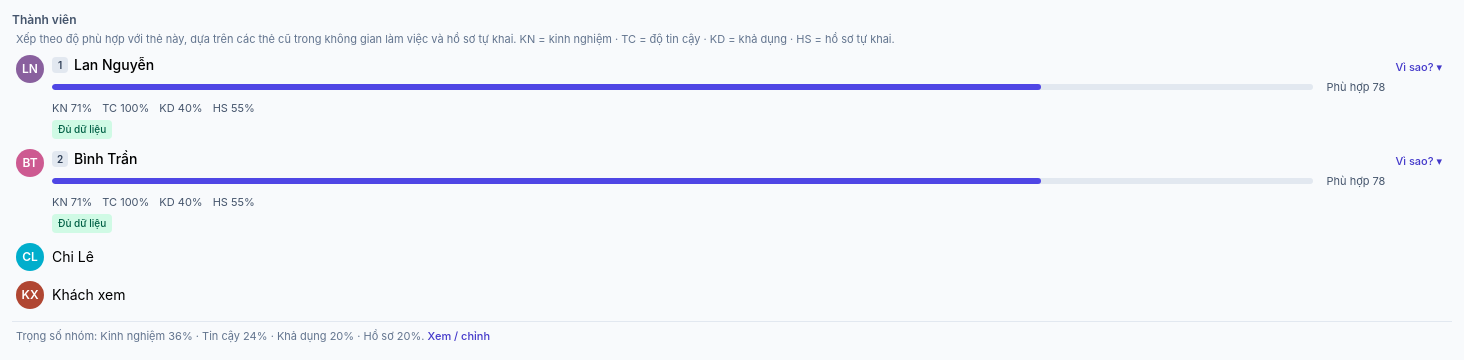
Test: AssignSuggestPanel - giao thẻ và ghi lựa chọn › trong lúc đang giao, các nút bị khoá (không giao hai người cùng lúc)
Expected: the list item with test id "assign-row-u1" is shown, [12, 51, 1452, 143]
Click the button with aria-label "Giao thẻ cho Lan Nguyễn". click: (114, 65)
box: [16, 55, 1385, 139]
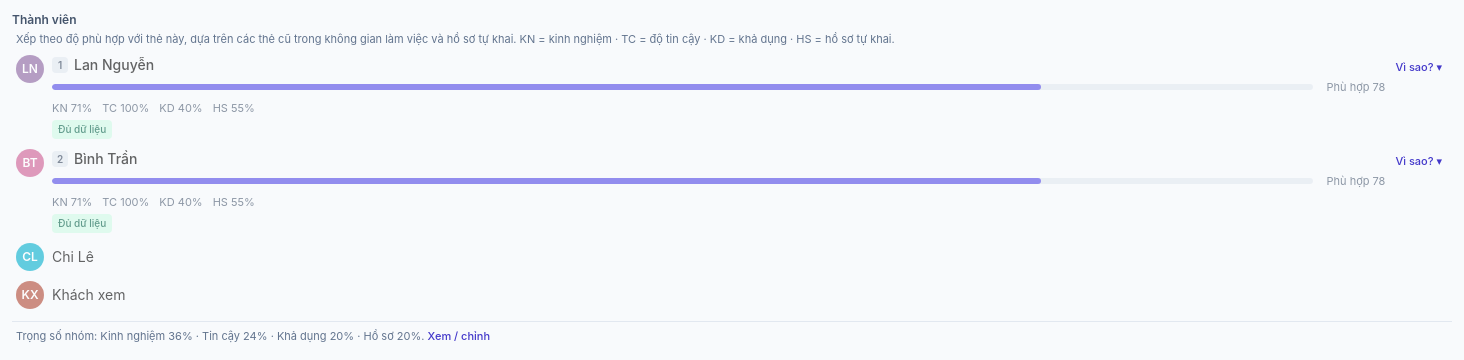
Result: the button with aria-label "Giao thẻ cho Bình Trần" is disabled
Click the button with aria-label "Giao thẻ cho Bình Trần". click: (106, 159)
box: [16, 149, 1385, 233]
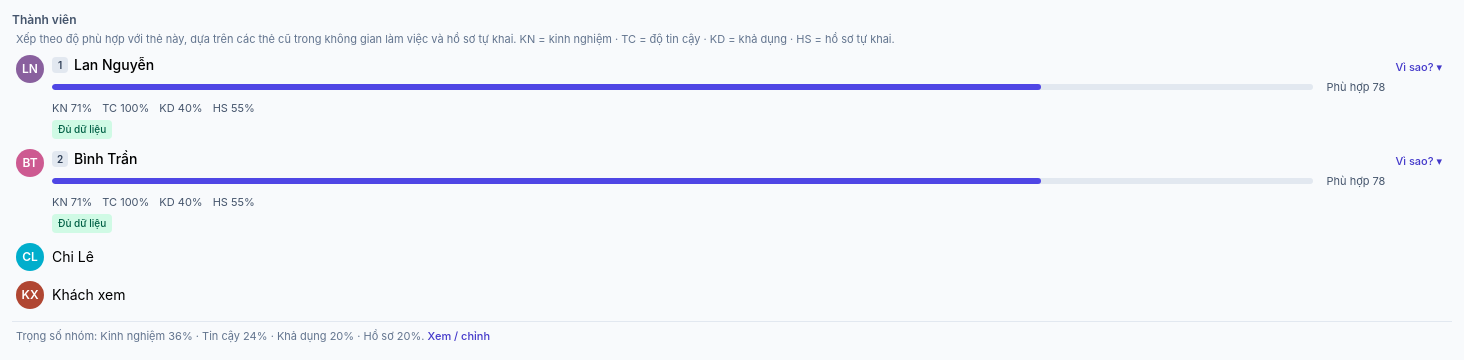
Result: the button with aria-label "Giao thẻ cho Bình Trần" is enabled at [16, 149, 1385, 233]
